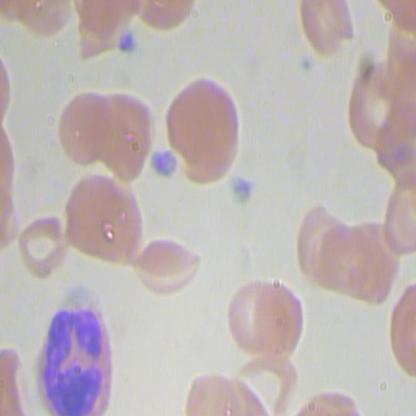Platelets: (27, 299, 121, 415), (146, 146, 178, 184), (224, 172, 258, 207), (115, 30, 140, 56)
RBC: (160, 72, 244, 185), (62, 169, 144, 274), (92, 90, 156, 184), (296, 203, 354, 298), (130, 226, 206, 296), (254, 276, 312, 364), (54, 87, 117, 167), (221, 272, 278, 360), (13, 211, 68, 284), (299, 1, 356, 61)
